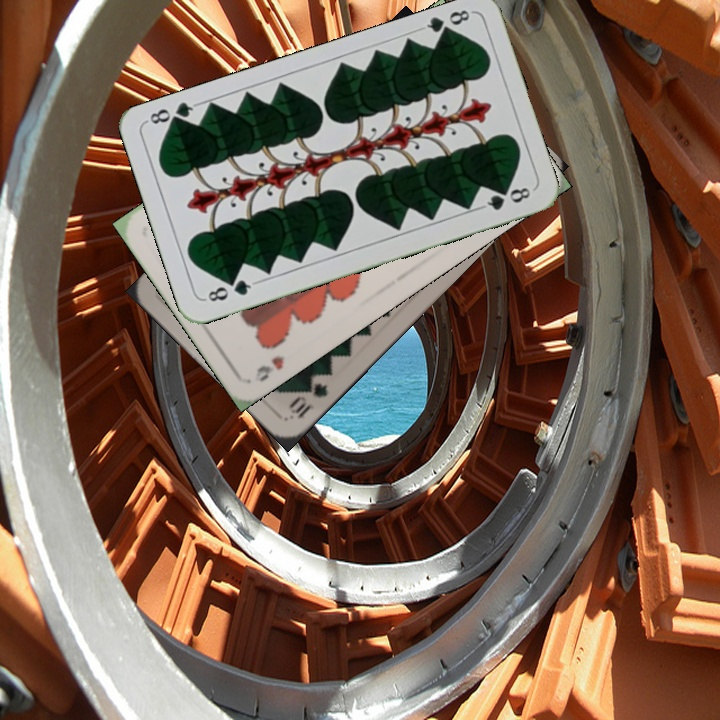G10: (284, 377, 331, 421)
G8: (417, 5, 475, 41), (201, 275, 258, 305)
H9: (251, 352, 287, 385)
